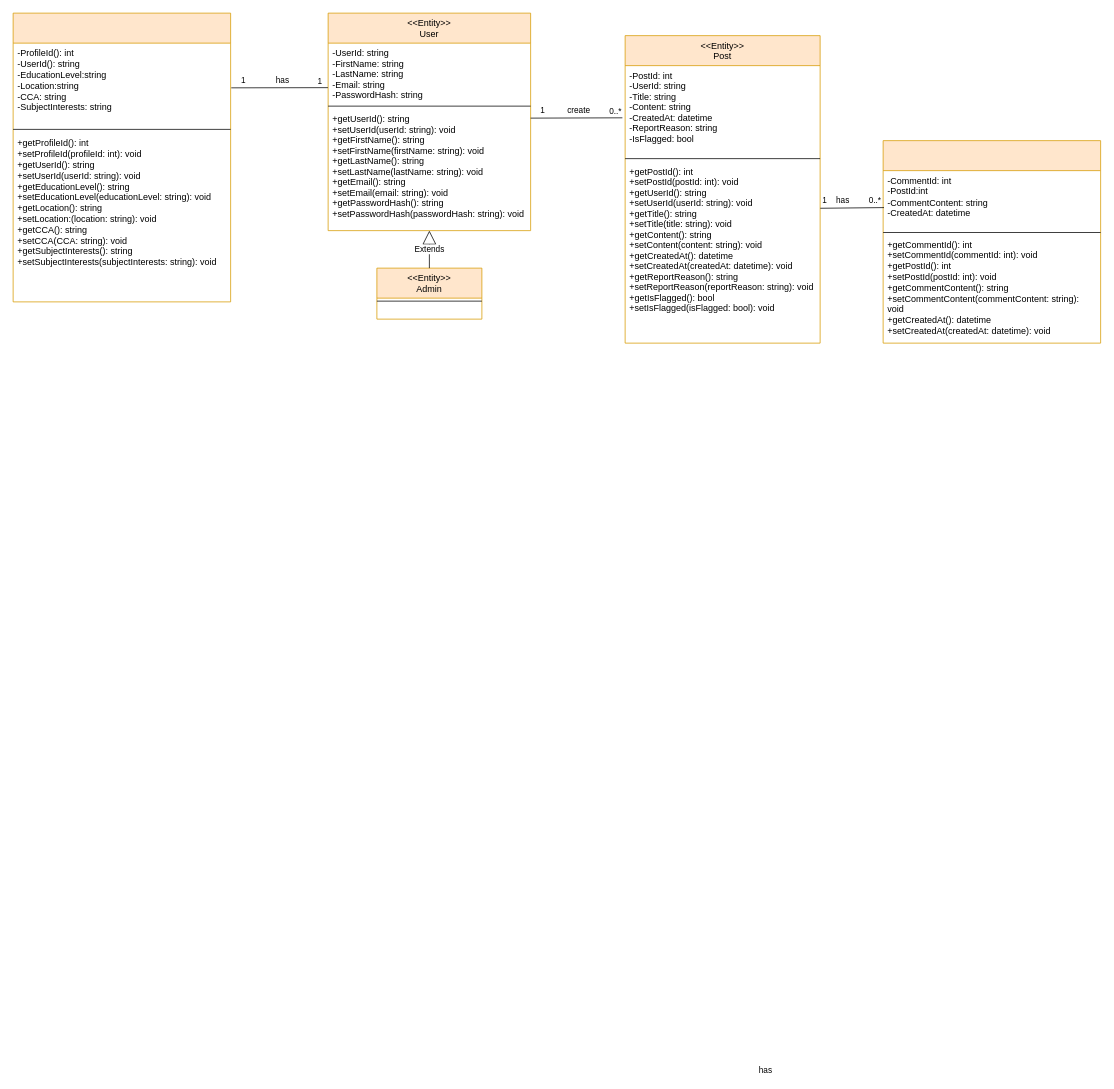
This 1114x1089 diagram has some shape labels left out. Here are the shapes that lost their labels. From the top down, the box of each, then its label:
(12, 12, 231, 302): <<Entity>> Profile
(882, 140, 1101, 343): <<Entity>> Comment
